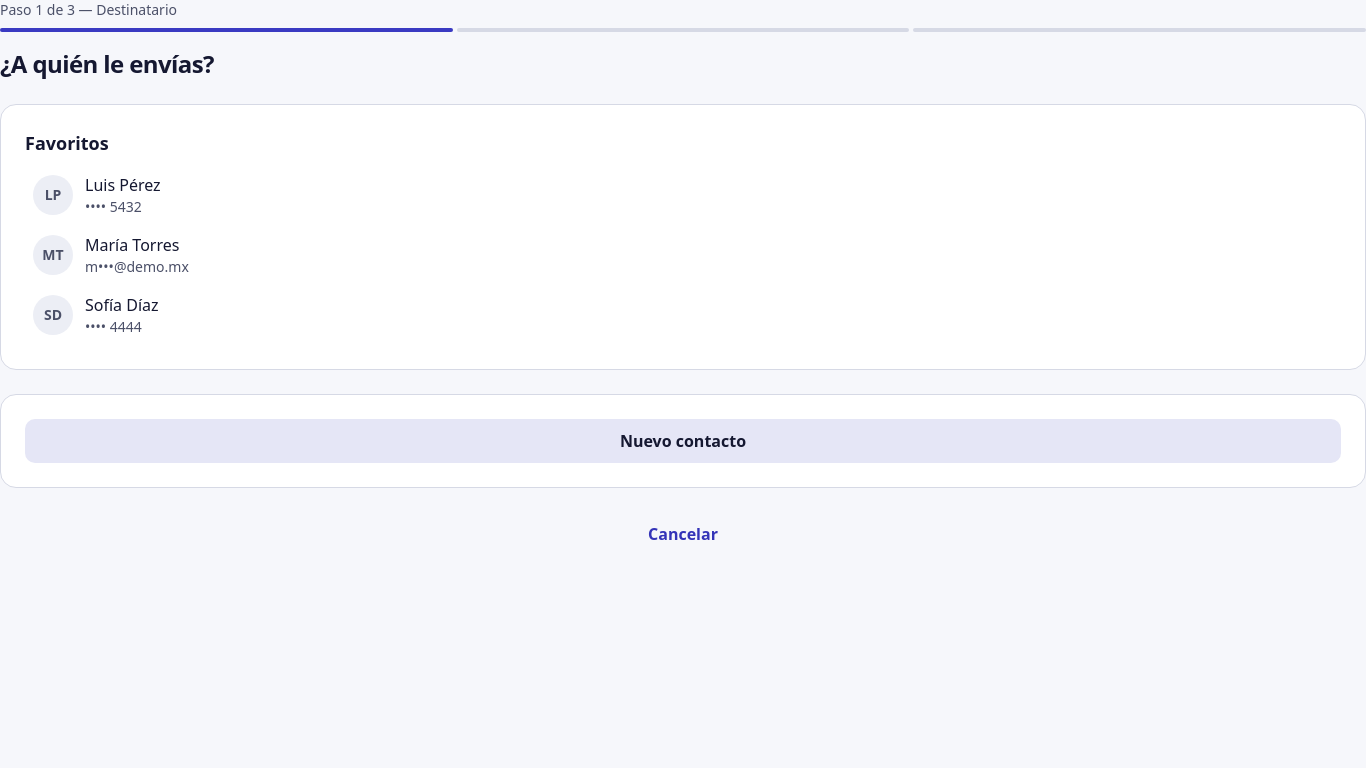
Test: [TC-COMP-09] Recipient step › server SELF_TRANSFER keeps the user on the form with the error
The width and height of the screenshot is (1366, 768).
Click the button "Nuevo contacto" at x=683, y=441, box [25, 419, 1341, 463]
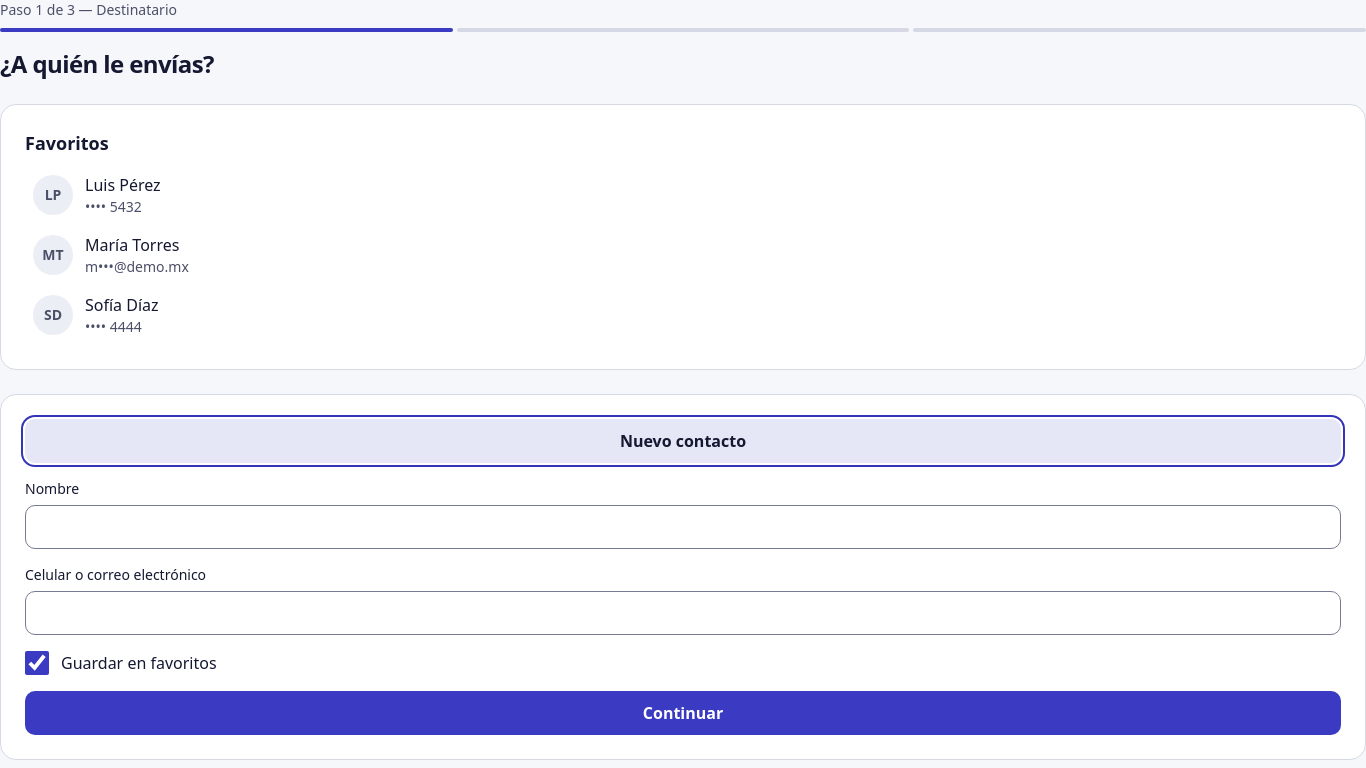
Type "Yo" into the field labelled "Nombre" at x=683, y=527, box [38, 507, 1328, 547]
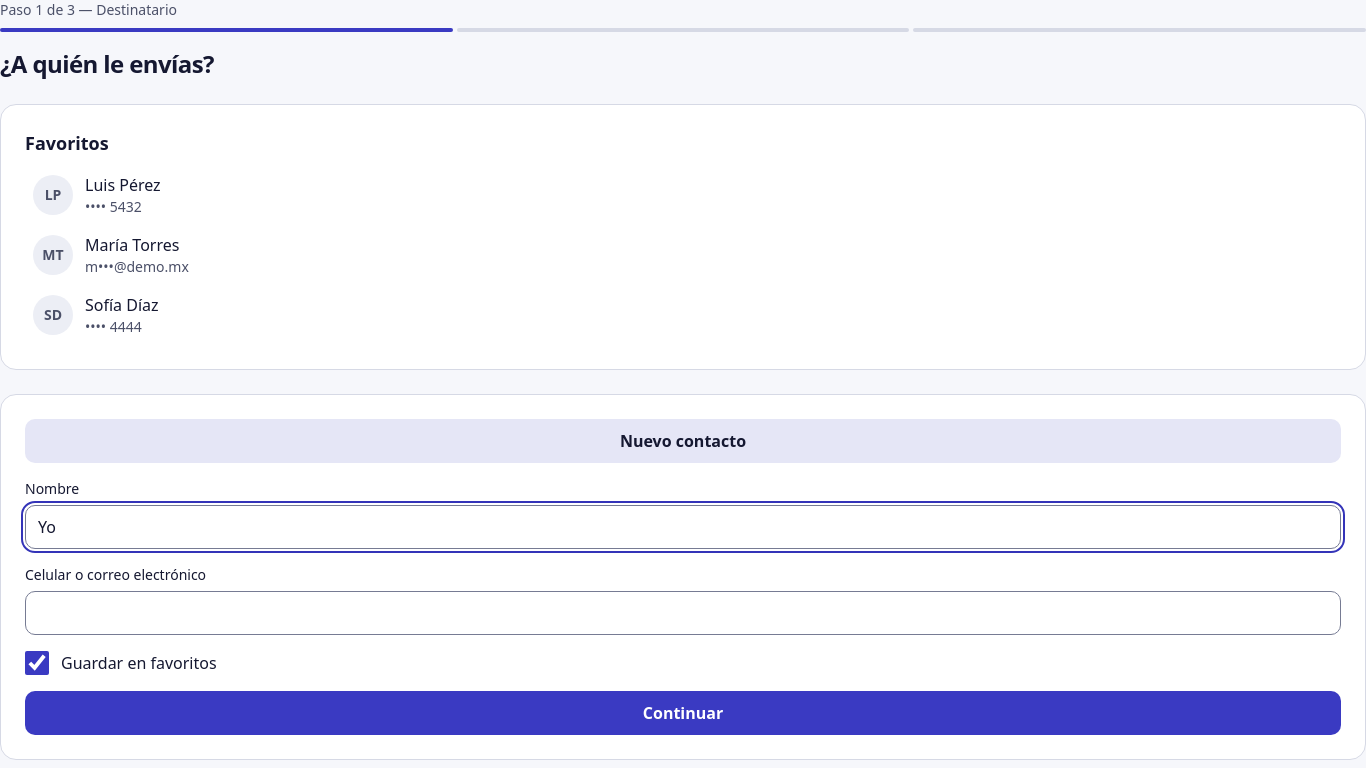
Type "5512345678" into the field labelled "Celular o correo electrónico" at x=683, y=613, box [38, 593, 1328, 633]
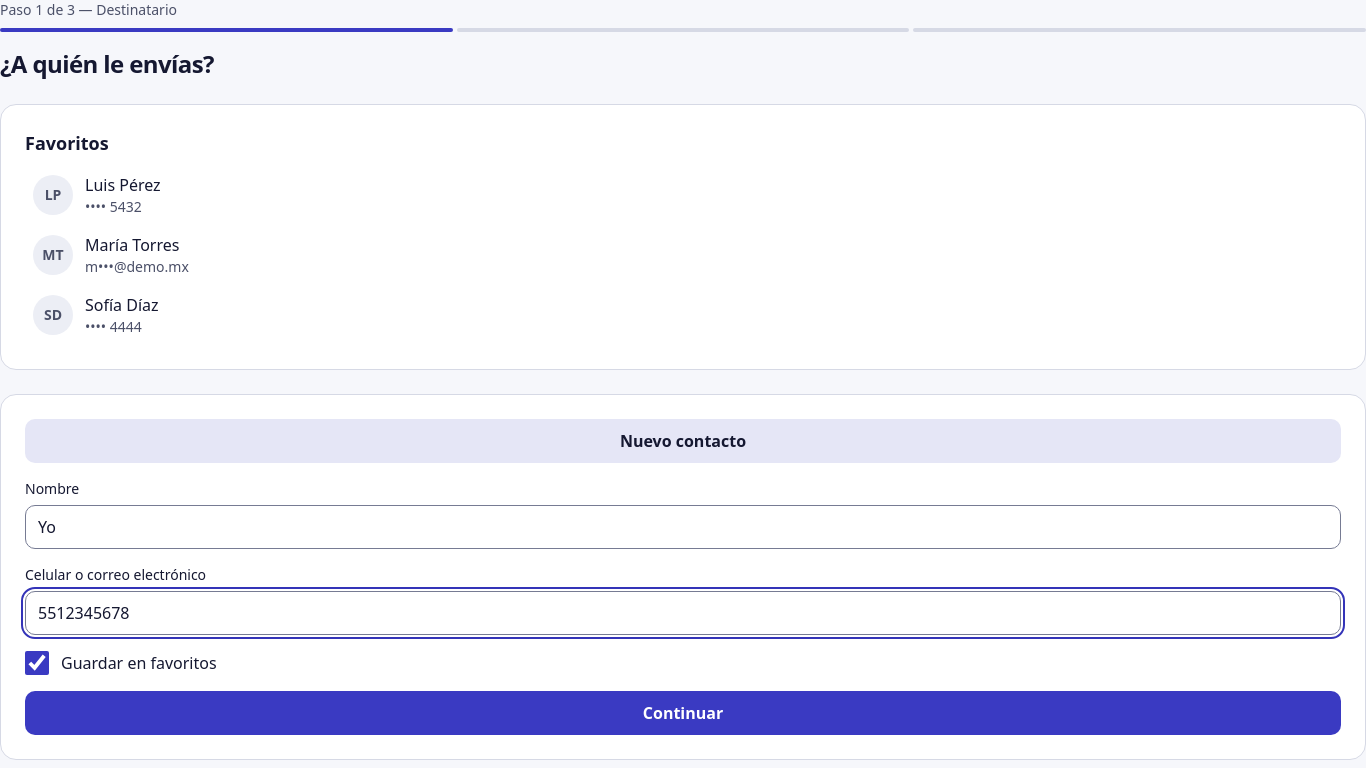
Click the button "Continuar" at x=683, y=713, box [25, 691, 1341, 735]
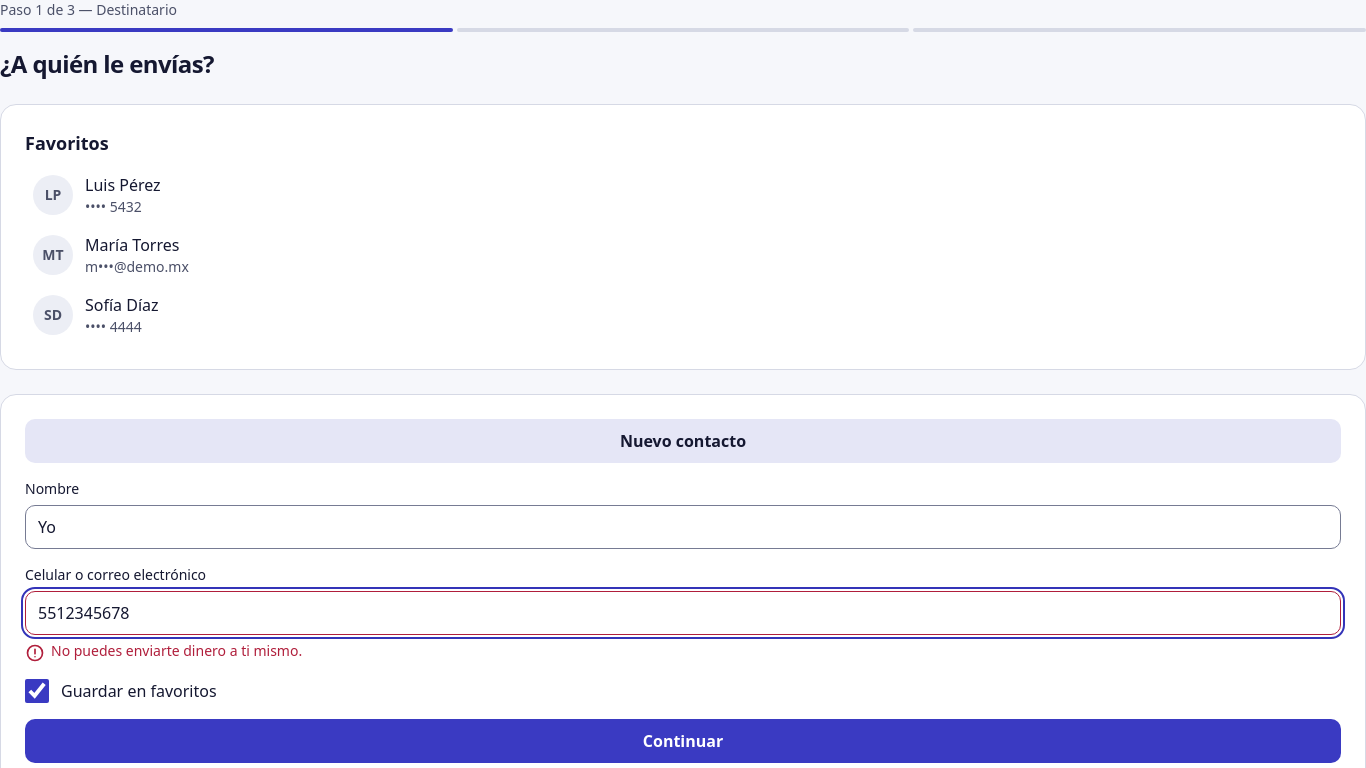
Check: the text "No puedes enviarte dinero a ti mismo." is shown, box [51, 641, 302, 661]
